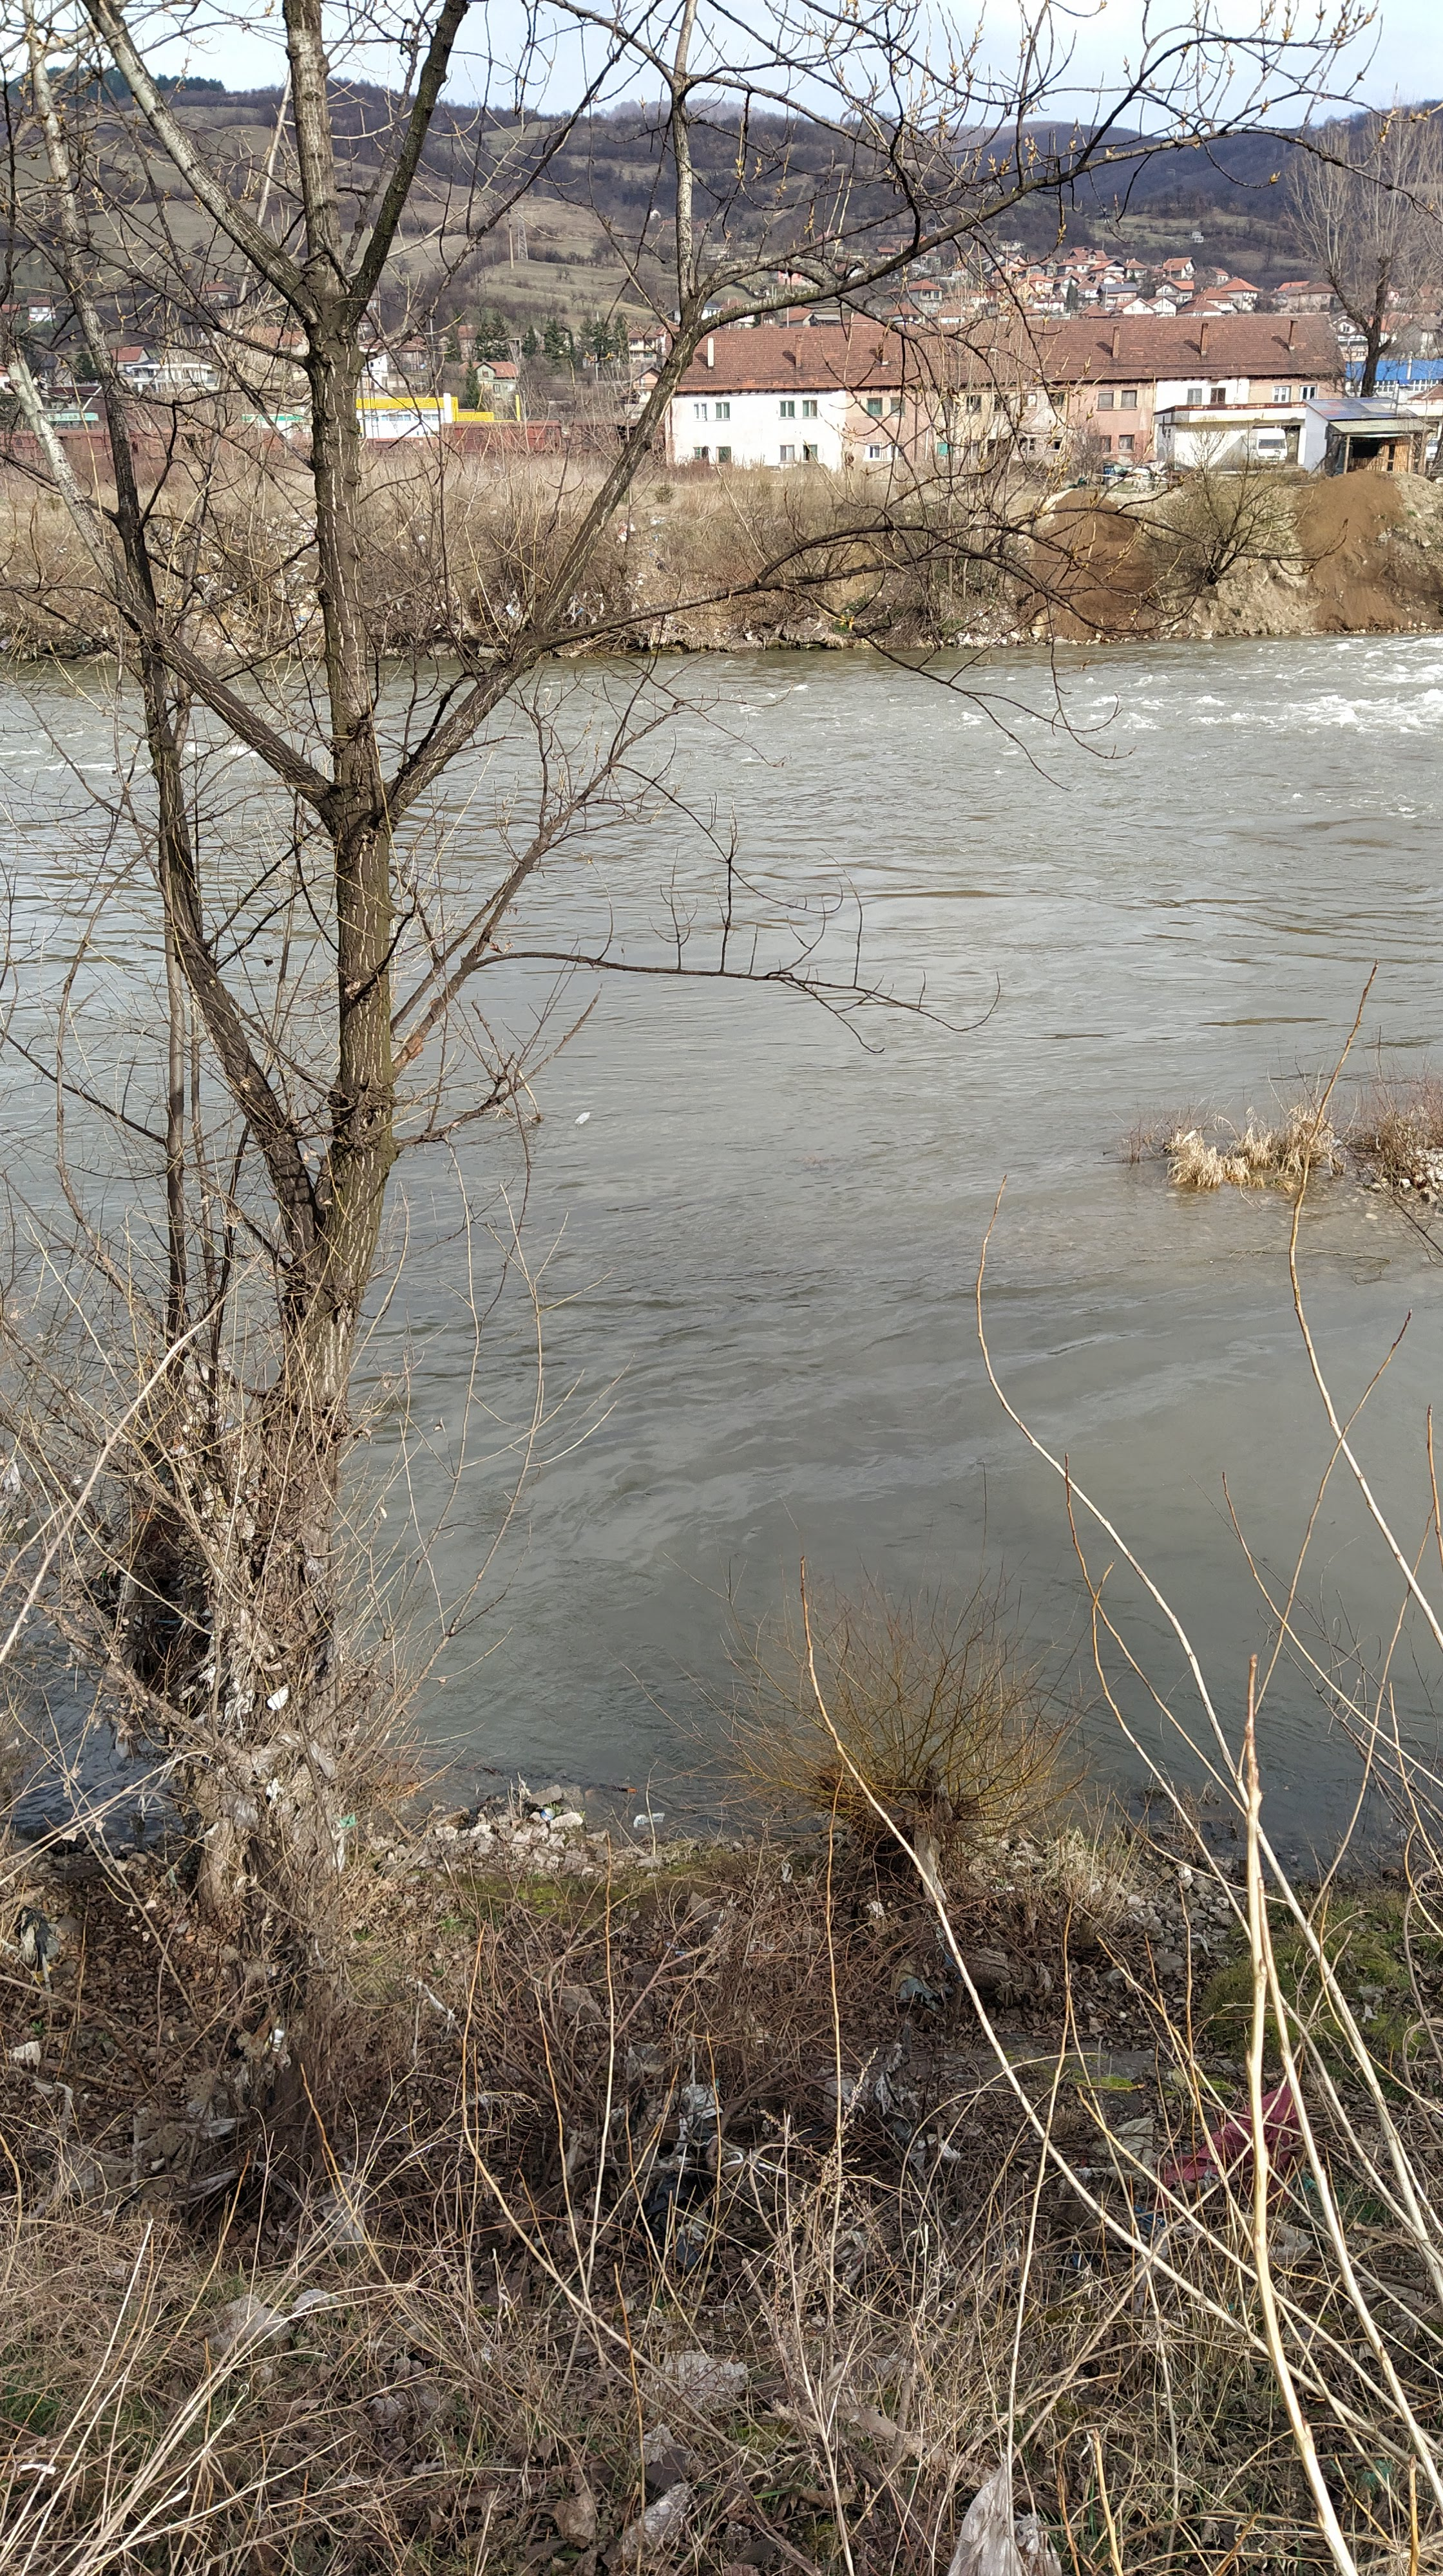Plastic Bottle: (574, 1111, 590, 1125)
